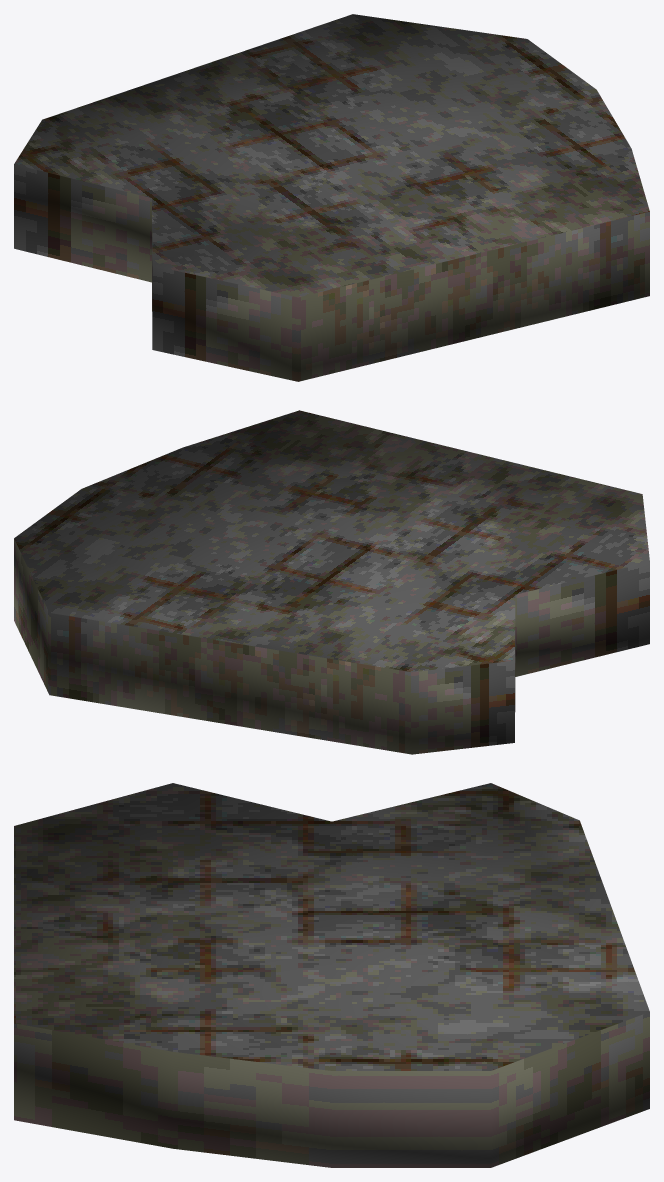
The model's file is concrete_debris_1.glb.
3 views of the same model, one above another, from view 1: azimuth 30°, elevation 25°; view 2: azimuth 150°, elevation 25°; view 3: azimuth 270°, elevation 25° (orthographic). The views are drawn at different scales.
Visible parts, largest first — view 1: Concrete_Debris_1; view 2: Concrete_Debris_1; view 3: Concrete_Debris_1.
Boxes of the visible parts, bbox=[...] form: Concrete_Debris_1: bbox=[14, 14, 649, 381]; Concrete_Debris_1: bbox=[14, 410, 649, 754]; Concrete_Debris_1: bbox=[14, 783, 649, 1167].
Bounding box in the file's own units: 1.55 × 0.2433 × 1.45.
1 material, 1 textured.
